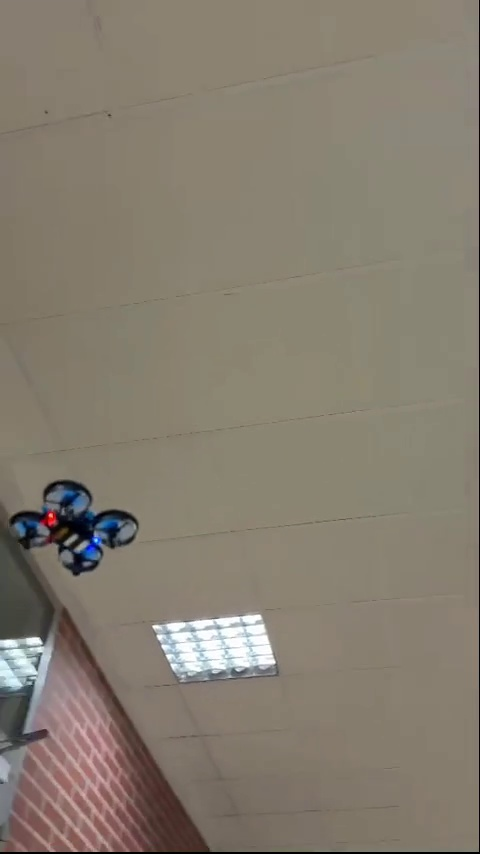drone: (11, 475, 141, 583)
